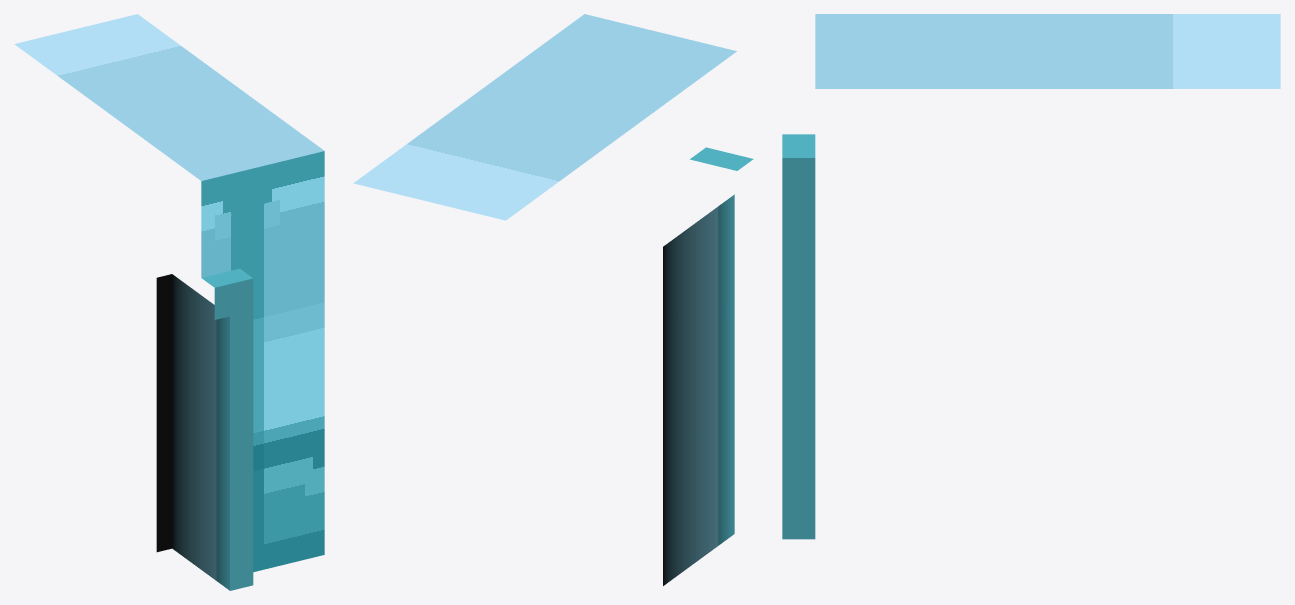
File: hgss-centre-b1-mur-nord-porte-2.glb
3 renders of one model, left to right at view 1: azimuth 30°, elevation 25°; view 2: azimuth 150°, elevation 25°; view 3: azimuth 270°, elevation 25°, orthographic. The views are drawn at different scales.
Bounding box in the file's own units: 1 × 3.12 × 2.81.
2 materials, 2 textured.
